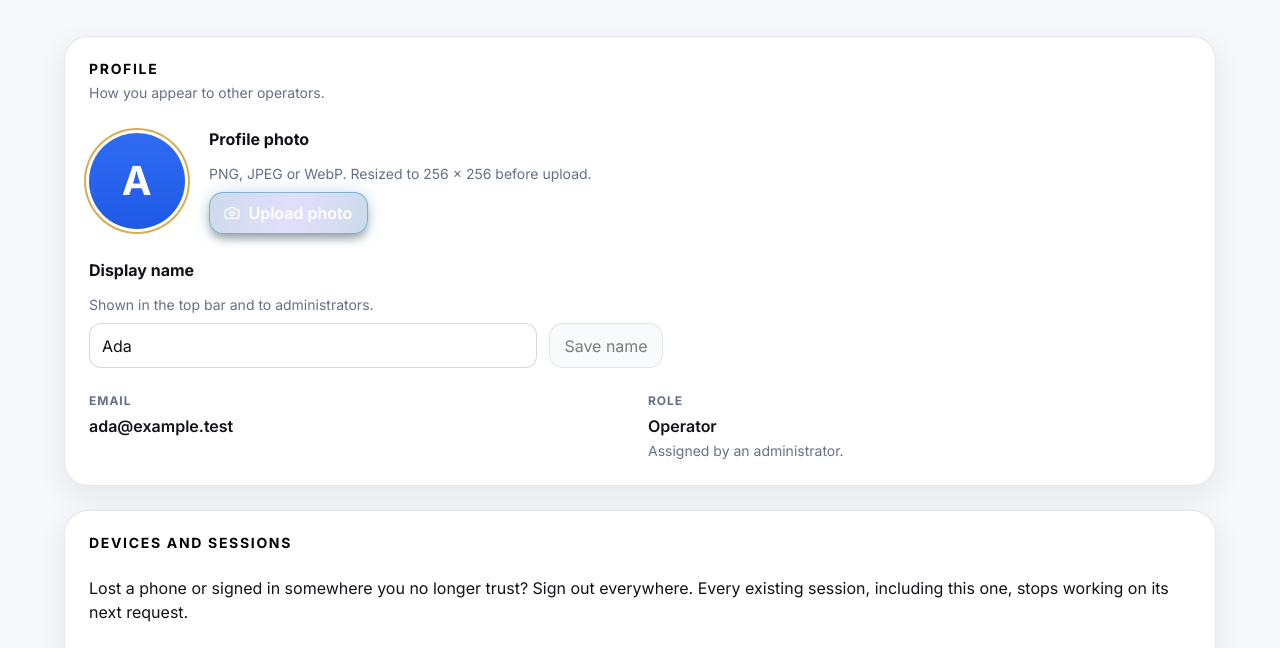
Profile › saves the display name via Firebase Auth
This screenshot has width=1280, height=648.
(page scrolled)
Replace the text in the field labelled "Display name" with "Ada Lovelace" at (313, 346), box [89,323,537,368]
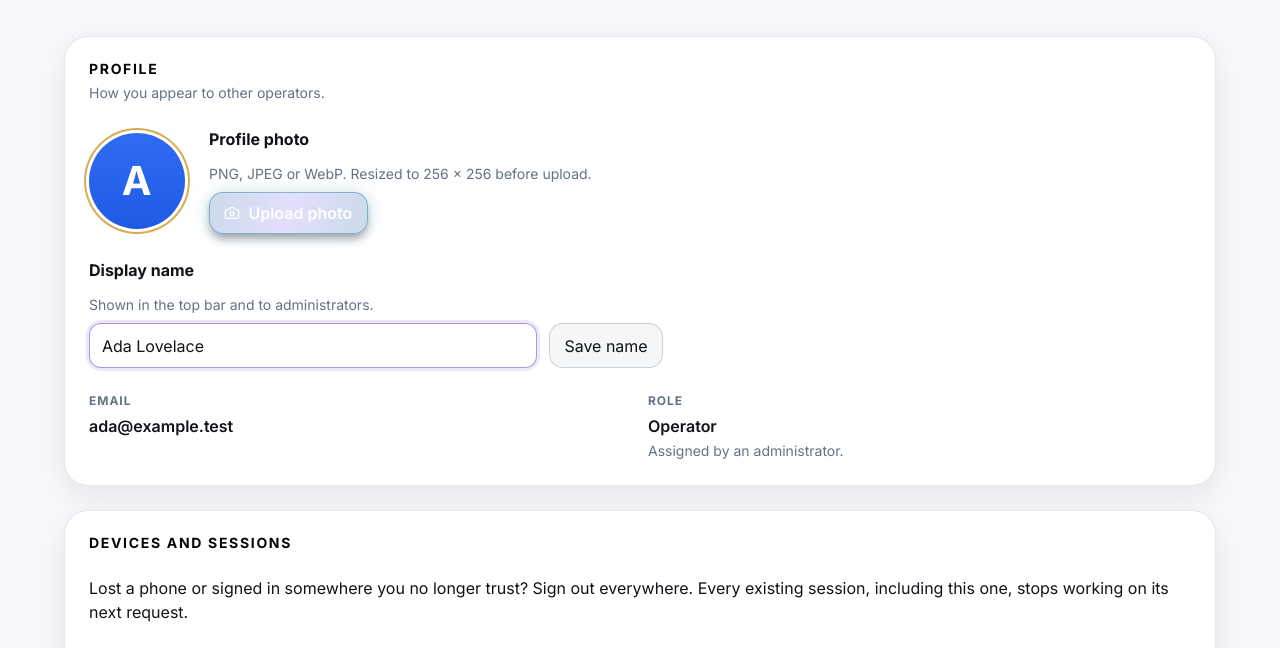
Click the button "Save name" at (606, 346), box [549,323,663,368]
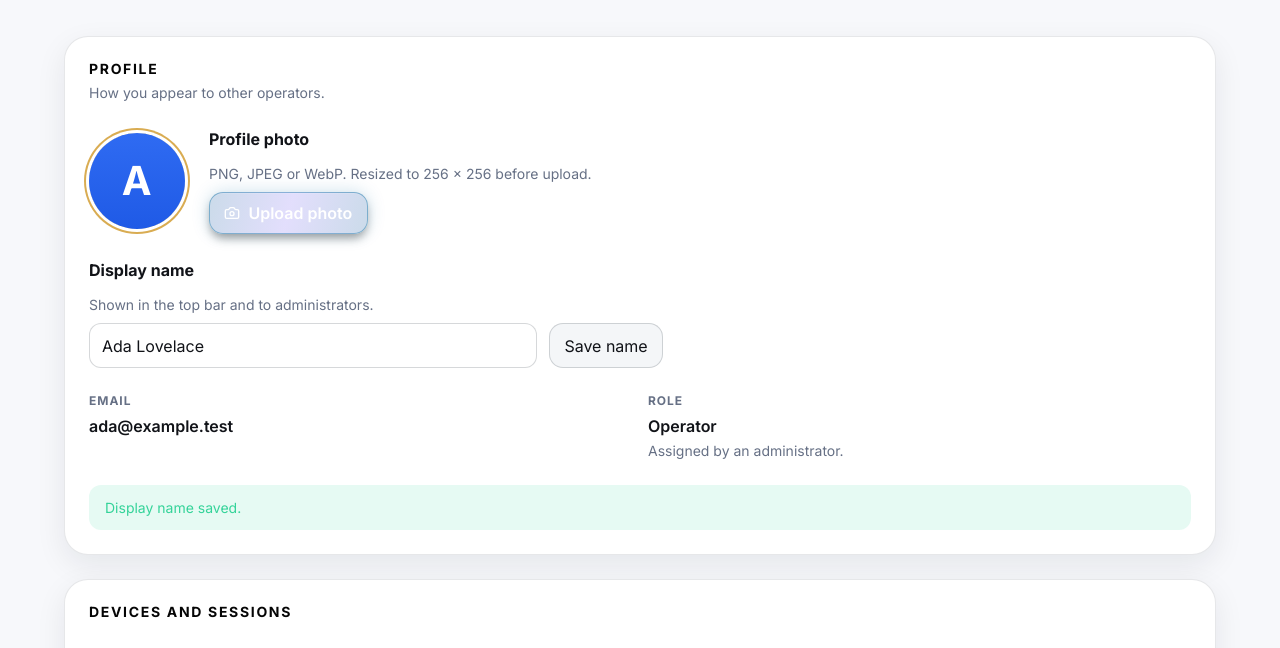
Now the text "Display name saved." is shown, box [89,485,1191,530]
